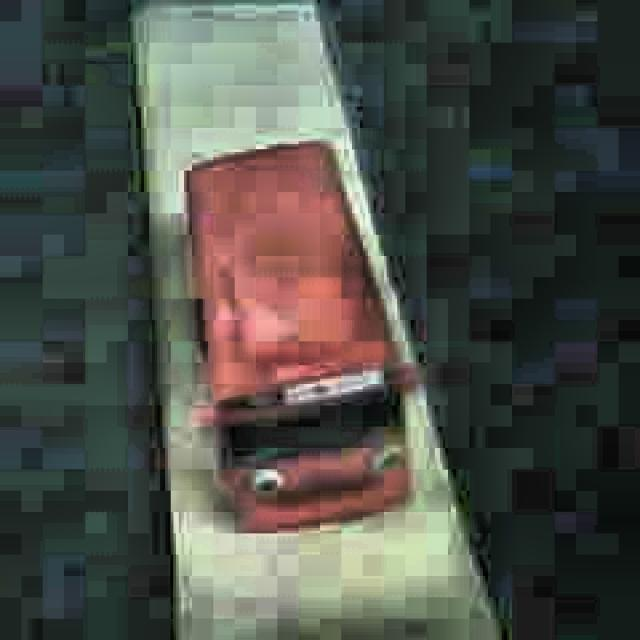bus: (176, 139, 422, 534)
